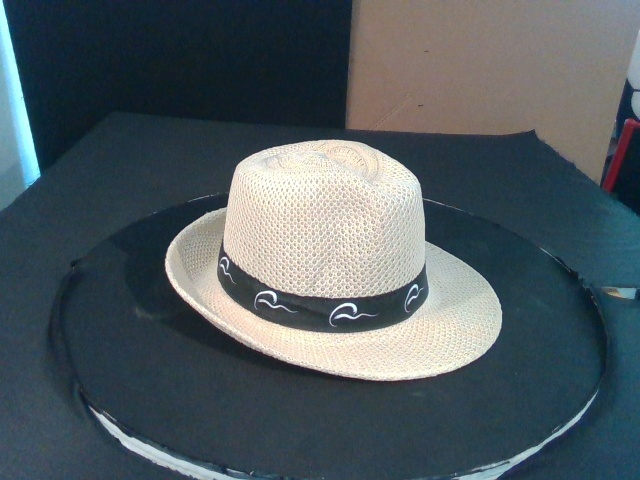hat: (163, 139, 503, 383)
